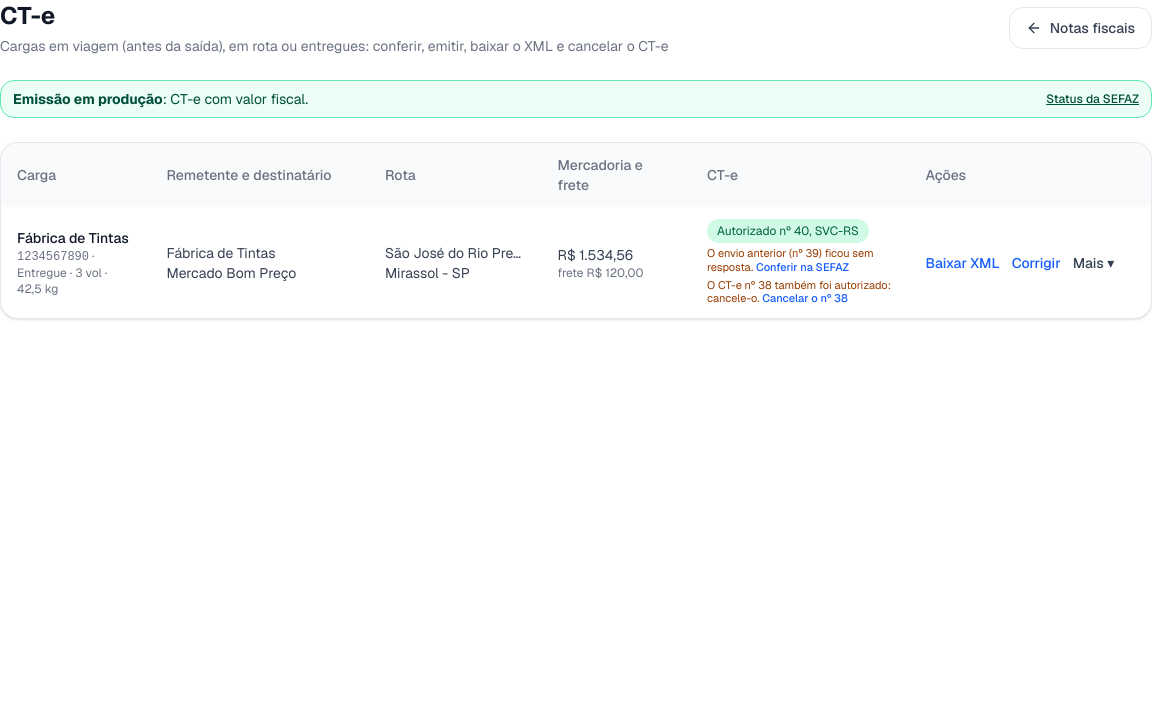
tela de CT-e: eventos, SVC e conferência › o CT-e que ficou para resolver aparece na linha: o envio sem resposta com Conferir na SEFAZ, e o autorizado em dobro com Cancelar
Check: the text "O envio anterior (nº 39) ficou sem resposta. Conferir na SEFAZ" is shown, box left=707, top=247, right=894, bottom=274
Check: the text "O CT-e nº 38 também foi autorizado: cancele-o. Cancelar o nº 38" is shown, box left=707, top=278, right=894, bottom=306
Click the button "Conferir na SEFAZ" at (802, 268), box left=756, top=261, right=849, bottom=275
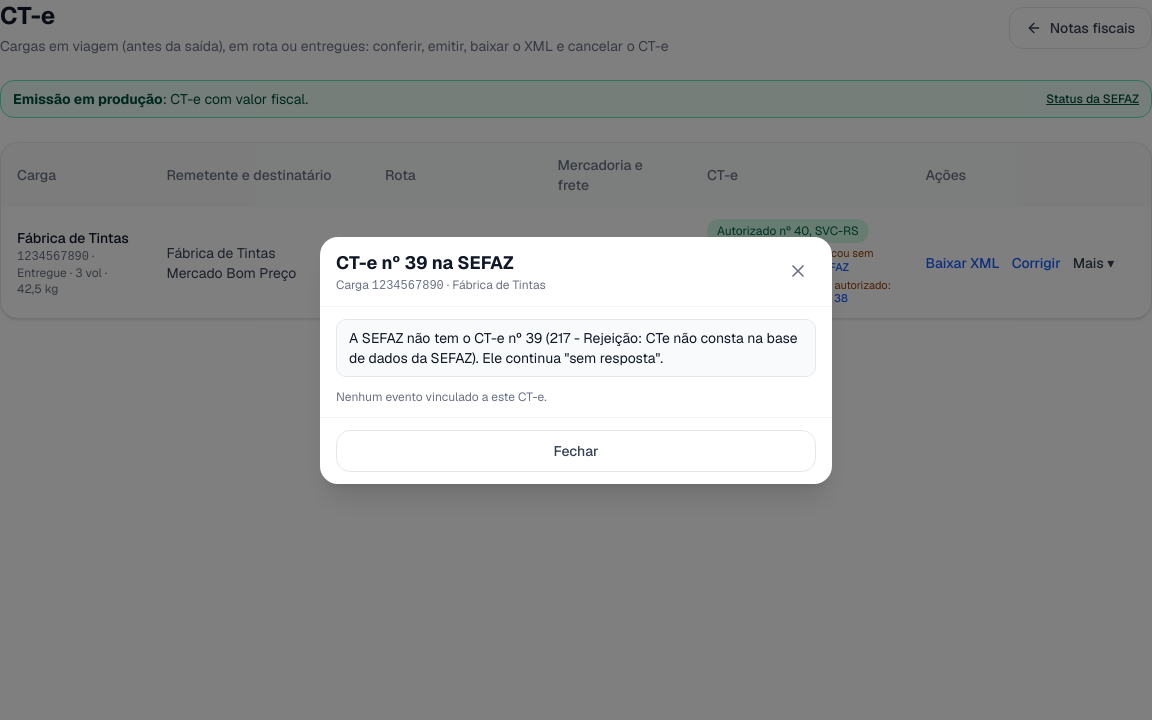
Check: the message is shown, box left=336, top=318, right=816, bottom=376
Check: the heading "CT-e nº 39 na SEFAZ" is shown, box left=336, top=250, right=514, bottom=274
Click the button named "Fechar" at (798, 271), box left=780, top=253, right=816, bottom=289
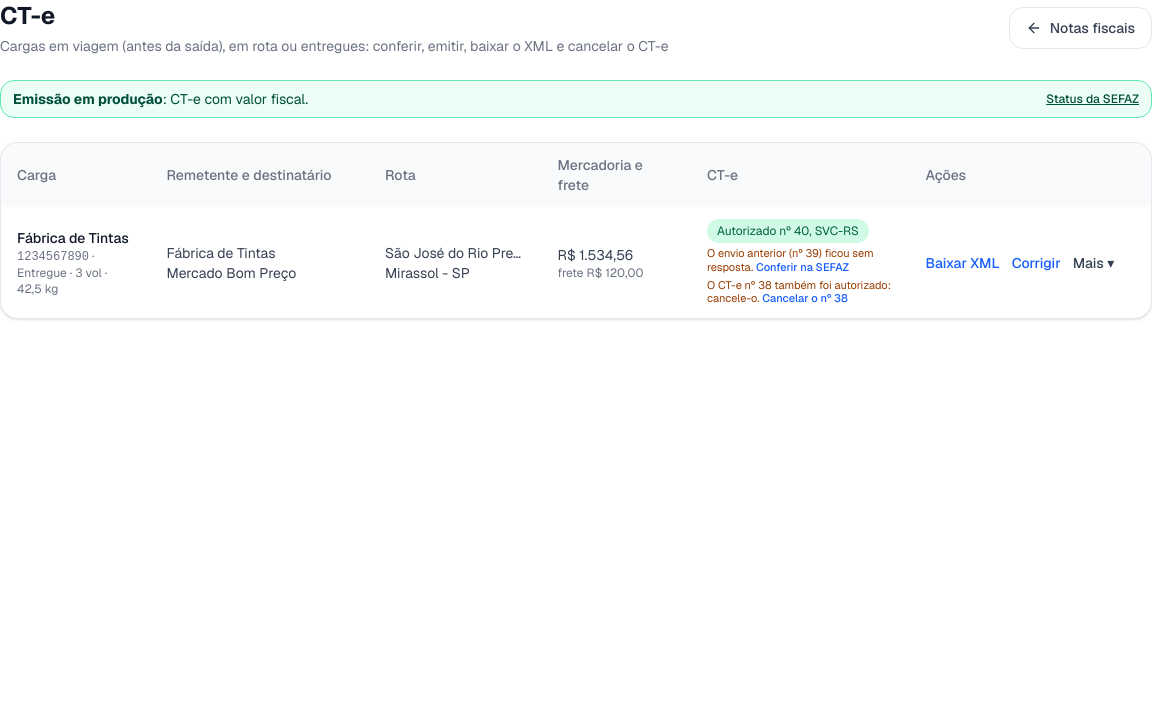
Click the button "Cancelar o nº 38" at (805, 299), box left=762, top=292, right=848, bottom=306
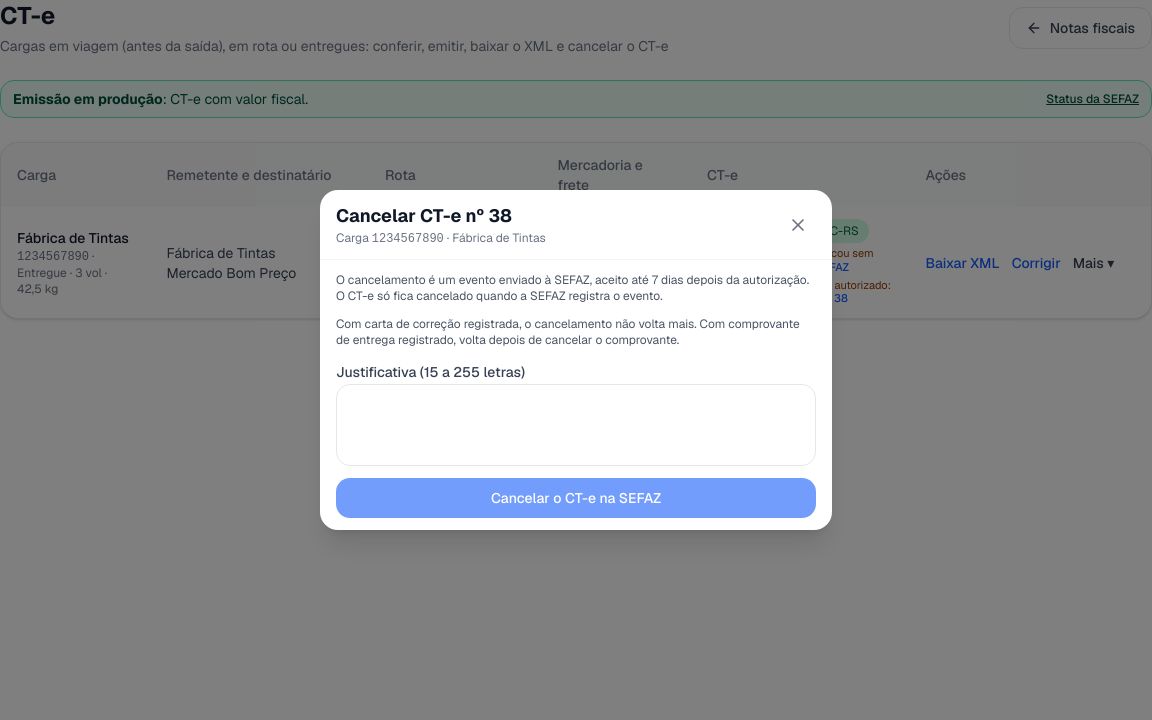
Check: the heading "Cancelar CT-e nº 38" is shown, box left=336, top=204, right=512, bottom=227
